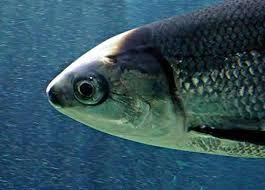Bangus: (47, 0, 265, 161)
